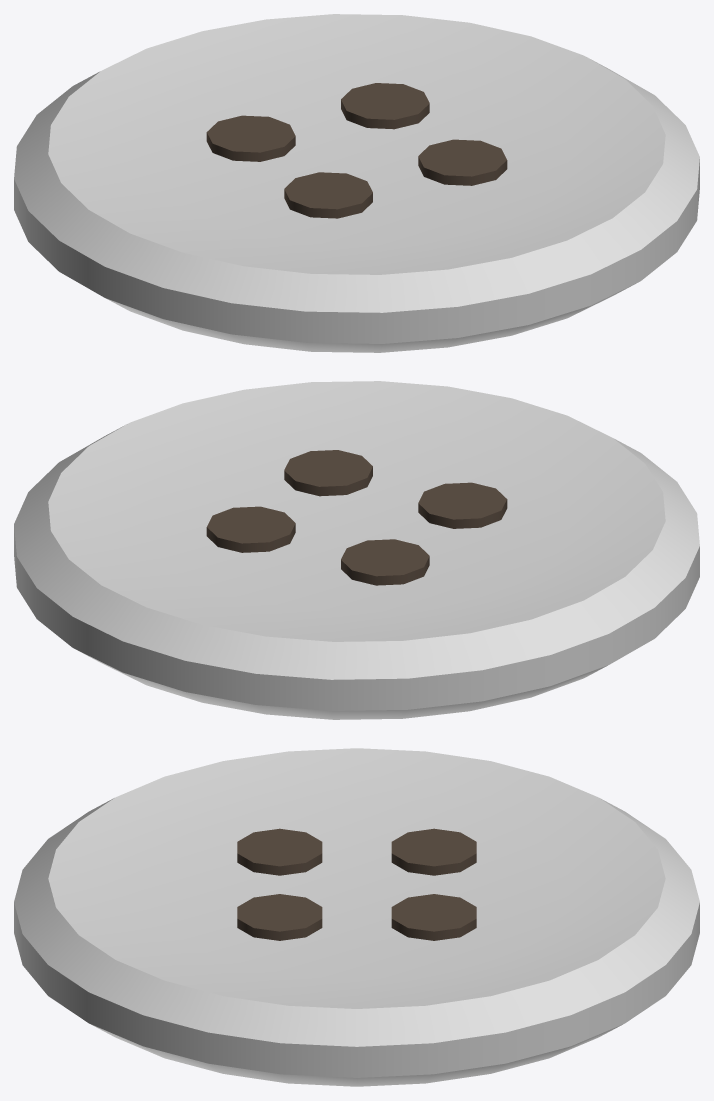
File: button_flat4.glb
3 renders of one model, top to bottom at view 1: azimuth 30°, elevation 25°; view 2: azimuth 150°, elevation 25°; view 3: azimuth 270°, elevation 25°, orthographic.
Visible parts, largest first — view 1: button_flat4; view 2: button_flat4; view 3: button_flat4.
Part boxes in pixels (bbox=[...]): button_flat4: bbox=[14, 14, 699, 352]; button_flat4: bbox=[14, 381, 699, 719]; button_flat4: bbox=[14, 748, 699, 1086].
Size of the model in its own units: 0.04 by 0.005 by 0.04.
